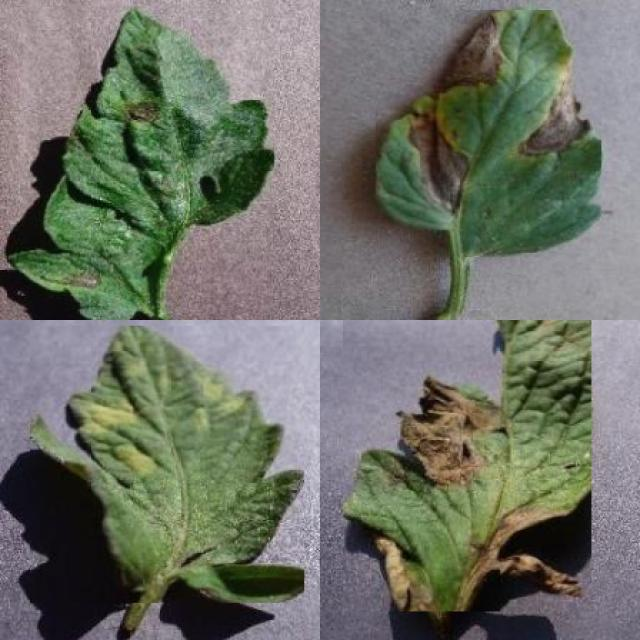Early Blight: (7, 6, 274, 320), (376, 10, 601, 257)
Late Blight: (342, 320, 592, 611)
Leaf Mold: (31, 326, 305, 603)
